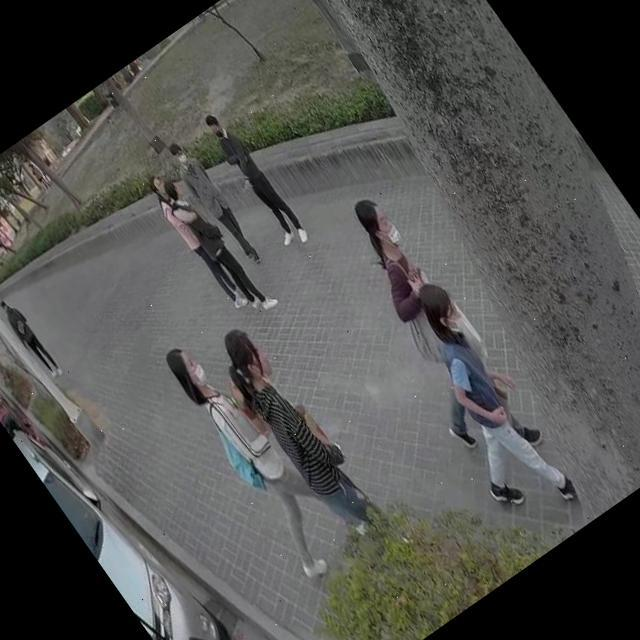person: (302, 177, 556, 482), (365, 267, 598, 545), (150, 321, 366, 590), (199, 306, 393, 546), (150, 162, 284, 330), (142, 162, 264, 316), (200, 106, 310, 250), (164, 136, 266, 269), (0, 285, 68, 382)
